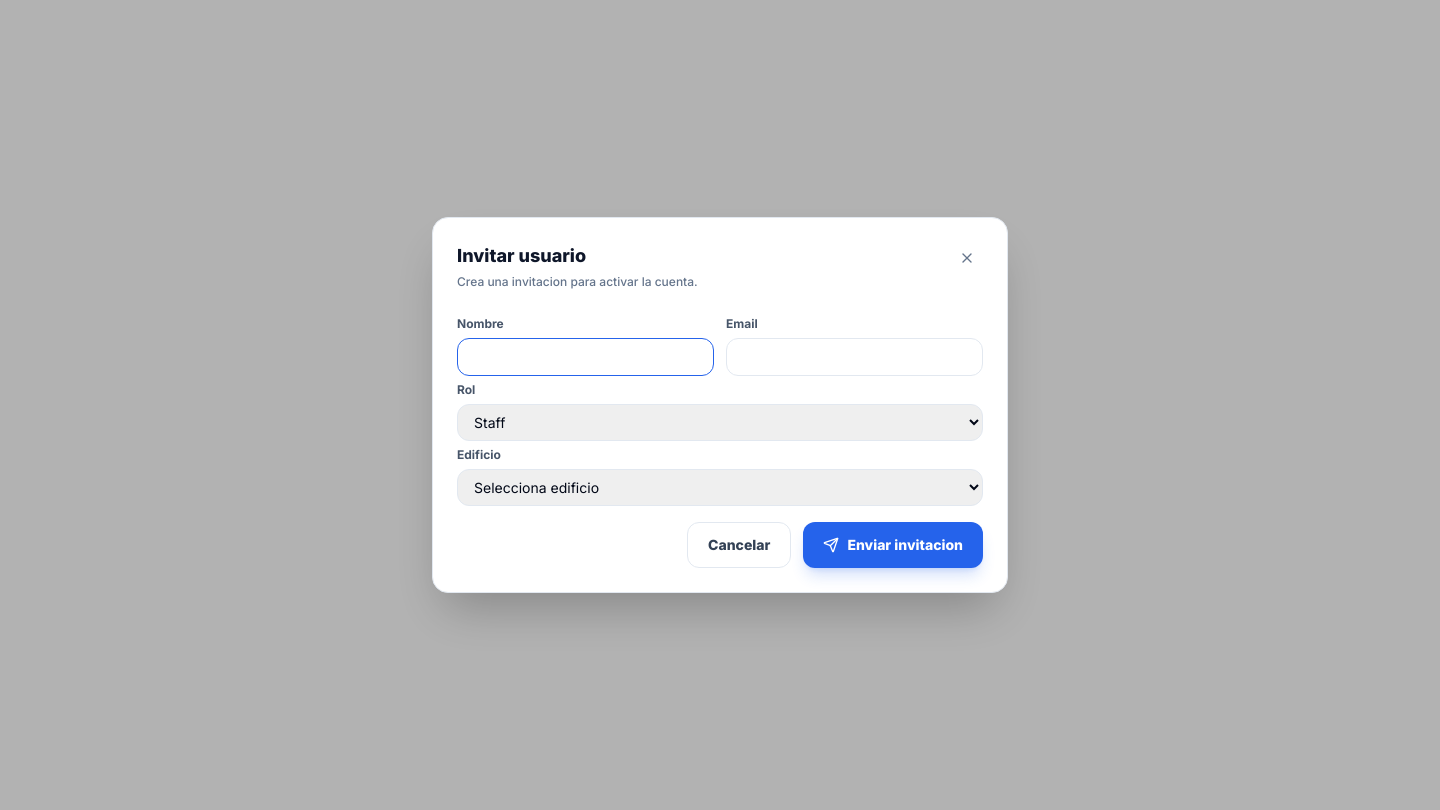
Test: InvitationCreationDialog › requires a building for STAFF and BUILDING_ADMIN invitations
Type "Staff Invitado" into the field labelled "Nombre" at (586, 357), box [457,338,714,376]
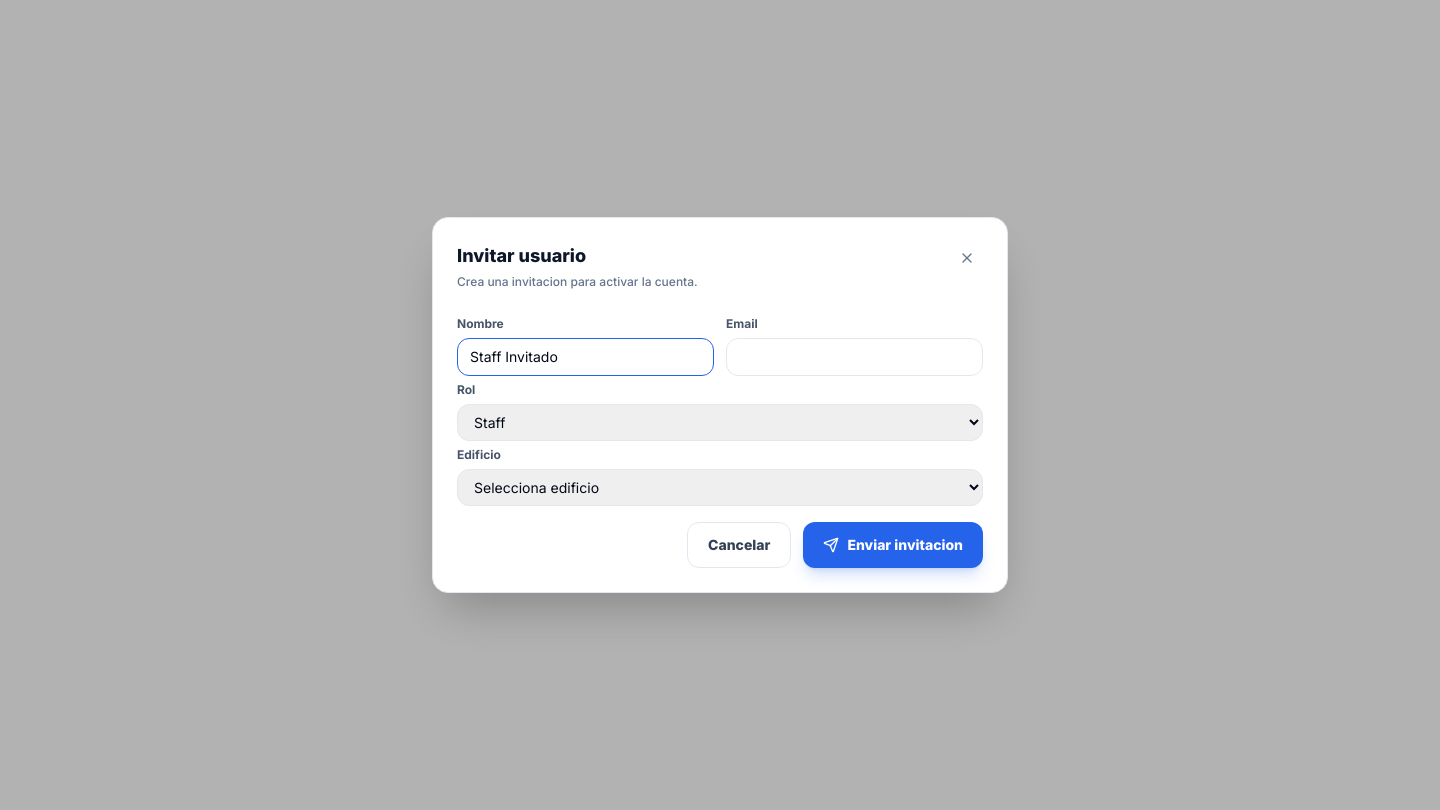
Type "staff@example.com" into the field labelled "Email" at (854, 357), box [726,338,983,376]
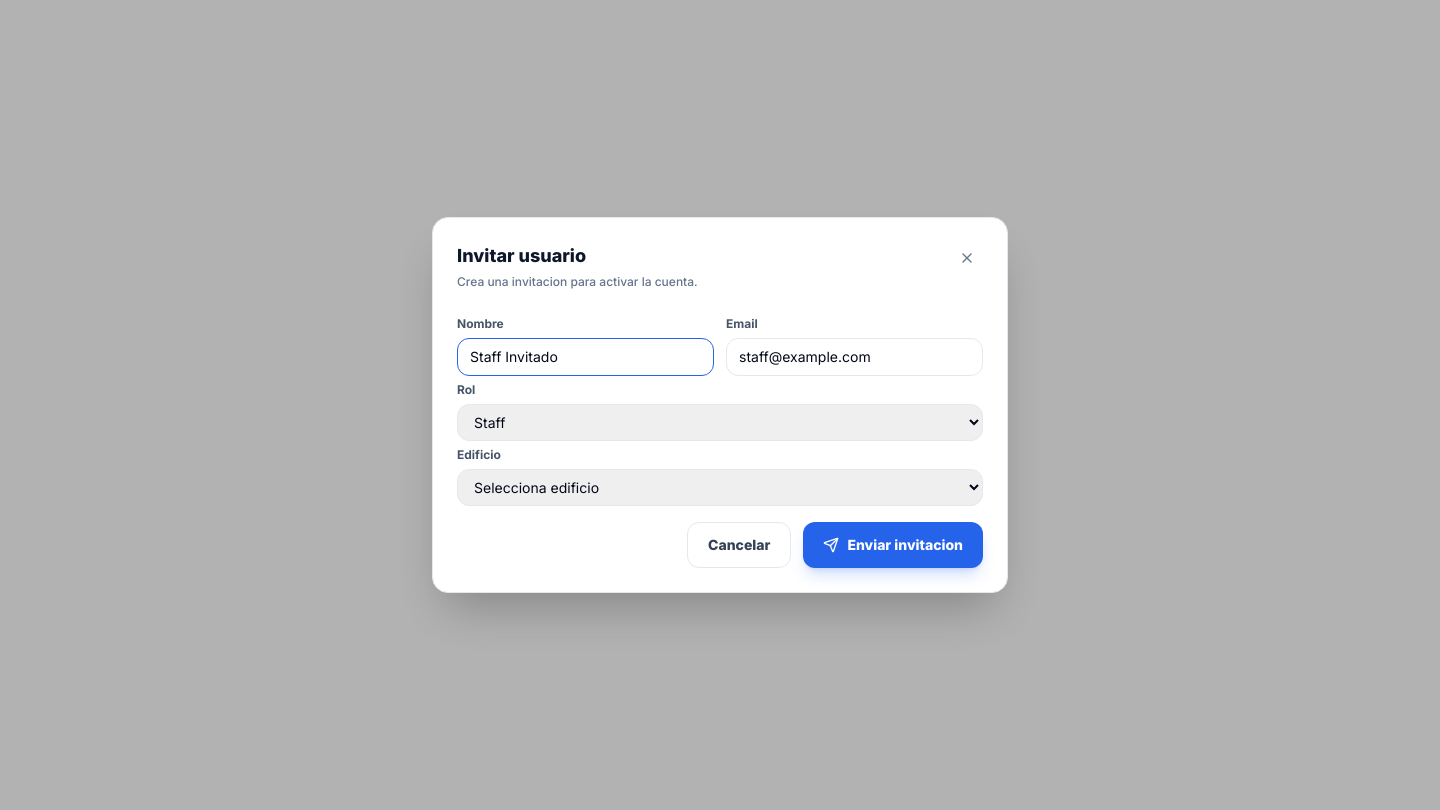
Click the button "Enviar invitacion" at (893, 545), box [803,522,983,568]
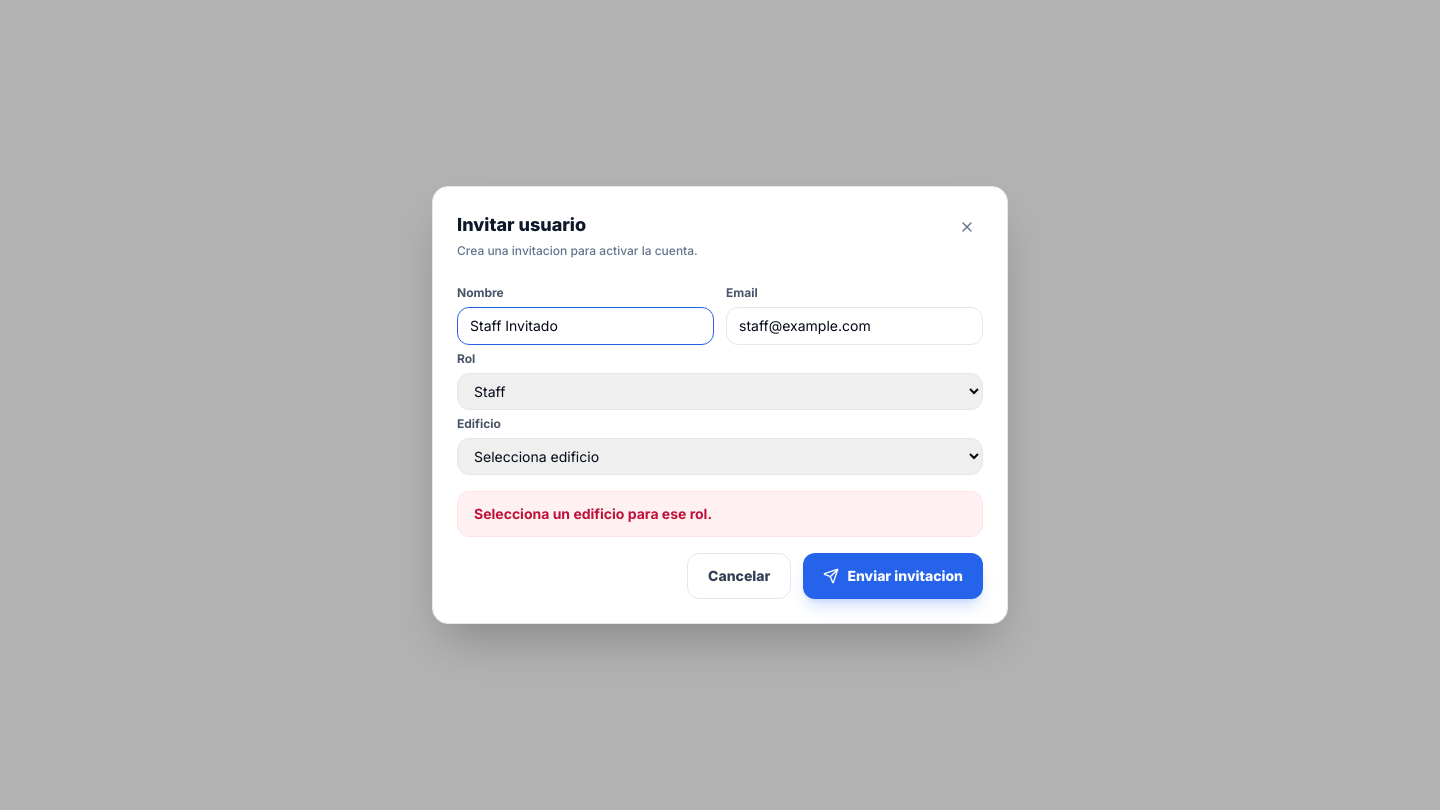
Check: the text "Selecciona un edificio para ese rol." is shown, box [457,491,983,537]
